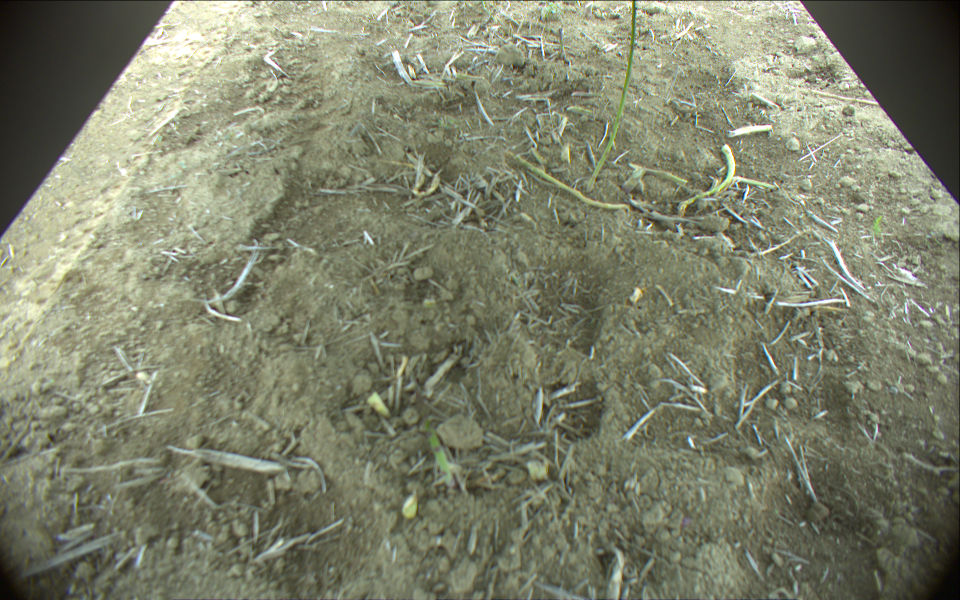aspa: (585, 1, 639, 188), (506, 148, 635, 209), (684, 146, 739, 210)
